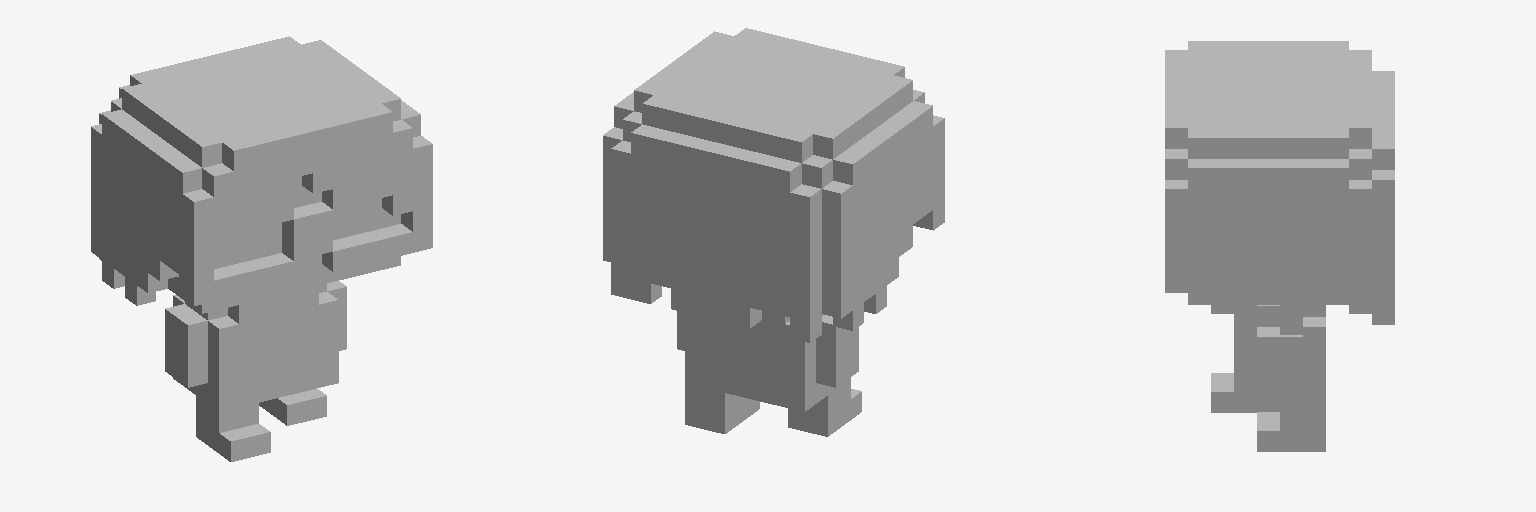
The model's file is vuNew2.obj.
The picture shows the model from 3 angles: view 1: azimuth 30°, elevation 25°; view 2: azimuth 150°, elevation 25°; view 3: azimuth 270°, elevation 25°; orthographic projection.
Bounding box in the file's own units: 12 × 16 × 10.